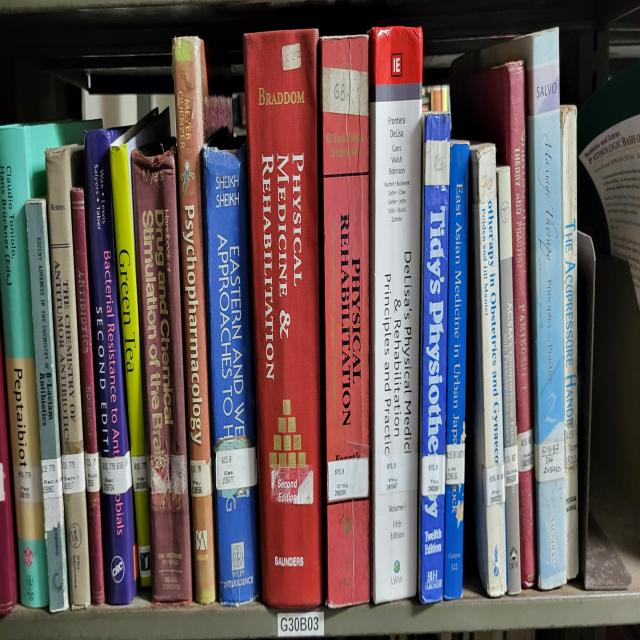Book: (452, 30, 568, 590), (0, 119, 100, 609), (244, 30, 322, 609), (452, 60, 536, 587), (369, 27, 422, 603), (110, 108, 170, 587), (320, 35, 370, 609), (131, 149, 192, 606), (202, 146, 259, 606), (85, 127, 138, 603), (172, 38, 216, 603), (45, 143, 90, 609), (25, 198, 69, 611), (470, 143, 506, 598), (71, 187, 105, 603), (444, 141, 470, 598), (496, 165, 521, 595), (560, 106, 579, 579)
Label: (216, 446, 258, 490), (328, 457, 369, 501), (271, 465, 314, 506), (146, 455, 188, 495), (380, 452, 418, 495), (534, 438, 565, 482), (101, 452, 132, 495), (61, 452, 86, 495), (14, 465, 42, 503), (482, 463, 505, 506), (421, 455, 445, 495), (41, 457, 62, 501), (190, 457, 212, 498), (445, 441, 465, 484), (518, 430, 534, 473), (504, 444, 519, 487), (131, 455, 148, 492), (85, 452, 100, 492), (565, 427, 578, 468)
